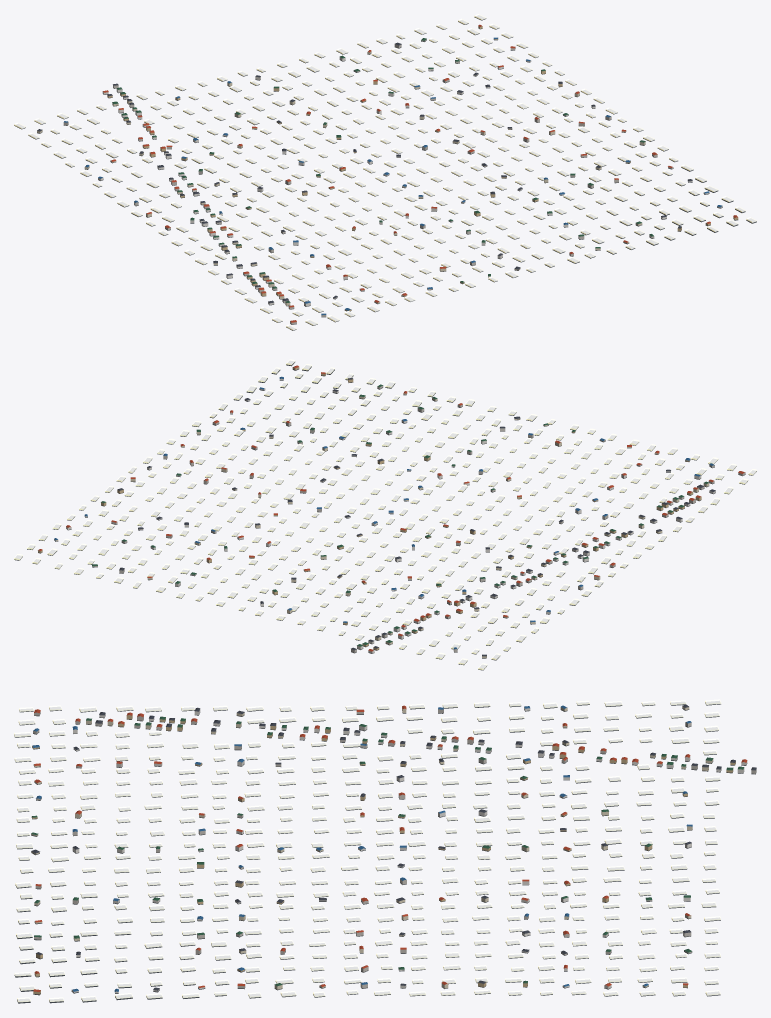
File: buildings_T_W02_S01.glb
3 renders of one model, top to bottom at view 1: azimuth 30°, elevation 25°; view 2: azimuth 150°, elevation 25°; view 3: azimuth 270°, elevation 25°, orthographic. The views are drawn at different scales.
Parts seen in each view (by area): view 1: T_W02_S01_roofs_agri_greenhouse_arch, T_W02_S01_slope_seating_foundations, T_W02_S01_walls_wall_modern_warm_white, T_W02_S01_roofs_roof_terracotta_gable, T_W02_S01_walls_wall_pastel_sand_gray, T_W02_S01_walls_wall_french_ochre_villa, T_W02_S01_roofs_roof_slate_French_villa_hip, T_W02_S01_walls_wall_dalat_cream_stucco, T_W02_S01_roofs_roof_pine_green_hip; view 2: T_W02_S01_roofs_agri_greenhouse_arch, T_W02_S01_slope_seating_foundations, T_W02_S01_walls_wall_modern_warm_white, T_W02_S01_walls_wall_pastel_sand_gray, T_W02_S01_walls_wall_french_ochre_villa, T_W02_S01_roofs_roof_terracotta_gable, T_W02_S01_roofs_roof_slate_French_villa_hip, T_W02_S01_walls_wall_dalat_cream_stucco, T_W02_S01_roofs_roof_pine_green_hip; view 3: T_W02_S01_roofs_agri_greenhouse_arch, T_W02_S01_slope_seating_foundations, T_W02_S01_walls_wall_modern_warm_white, T_W02_S01_roofs_roof_terracotta_gable, T_W02_S01_walls_wall_pastel_sand_gray, T_W02_S01_roofs_roof_slate_French_villa_hip, T_W02_S01_walls_wall_french_ochre_villa, T_W02_S01_roofs_roof_pine_green_hip, T_W02_S01_walls_wall_dalat_cream_stucco, T_W02_S01_roofs_roof_highland_blue_gable.
Part boxes in pixels (bbox=[...]): T_W02_S01_roofs_agri_greenhouse_arch: bbox=[14, 14, 756, 330]; T_W02_S01_slope_seating_foundations: bbox=[14, 16, 756, 330]; T_W02_S01_walls_wall_modern_warm_white: bbox=[98, 47, 722, 306]; T_W02_S01_roofs_roof_terracotta_gable: bbox=[103, 24, 737, 322]; T_W02_S01_walls_wall_pastel_sand_gray: bbox=[63, 39, 657, 324]; T_W02_S01_walls_wall_french_ochre_villa: bbox=[107, 26, 738, 311]; T_W02_S01_roofs_roof_slate_French_villa_hip: bbox=[37, 42, 692, 303]; T_W02_S01_walls_wall_dalat_cream_stucco: bbox=[37, 38, 645, 305]; T_W02_S01_roofs_roof_pine_green_hip: bbox=[112, 38, 653, 302]; T_W02_S01_roofs_agri_greenhouse_arch: bbox=[14, 359, 756, 669]; T_W02_S01_slope_seating_foundations: bbox=[14, 361, 756, 670]; T_W02_S01_walls_wall_modern_warm_white: bbox=[66, 378, 715, 653]; T_W02_S01_walls_wall_pastel_sand_gray: bbox=[92, 385, 745, 652]; T_W02_S01_walls_wall_french_ochre_villa: bbox=[38, 367, 701, 650]; T_W02_S01_roofs_roof_terracotta_gable: bbox=[38, 365, 745, 651]; T_W02_S01_roofs_roof_slate_French_villa_hip: bbox=[117, 378, 715, 656]; T_W02_S01_walls_wall_dalat_cream_stucco: bbox=[54, 392, 709, 658]; T_W02_S01_roofs_roof_pine_green_hip: bbox=[92, 384, 708, 646]; T_W02_S01_roofs_agri_greenhouse_arch: bbox=[14, 699, 721, 1002]; T_W02_S01_slope_seating_foundations: bbox=[14, 701, 756, 1003]; T_W02_S01_walls_wall_modern_warm_white: bbox=[71, 707, 747, 993]; T_W02_S01_roofs_roof_terracotta_gable: bbox=[33, 705, 747, 991]; T_W02_S01_walls_wall_pastel_sand_gray: bbox=[33, 708, 756, 988]; T_W02_S01_roofs_roof_slate_French_villa_hip: bbox=[31, 704, 756, 990]; T_W02_S01_walls_wall_french_ochre_villa: bbox=[31, 715, 735, 994]; T_W02_S01_roofs_roof_pine_green_hip: bbox=[31, 716, 744, 986]; T_W02_S01_walls_wall_dalat_cream_stucco: bbox=[31, 706, 713, 989]; T_W02_S01_roofs_roof_highland_blue_gable: bbox=[32, 705, 692, 991].
Bounding box in the file's own units: 1739 × 46.14 × 1864.
